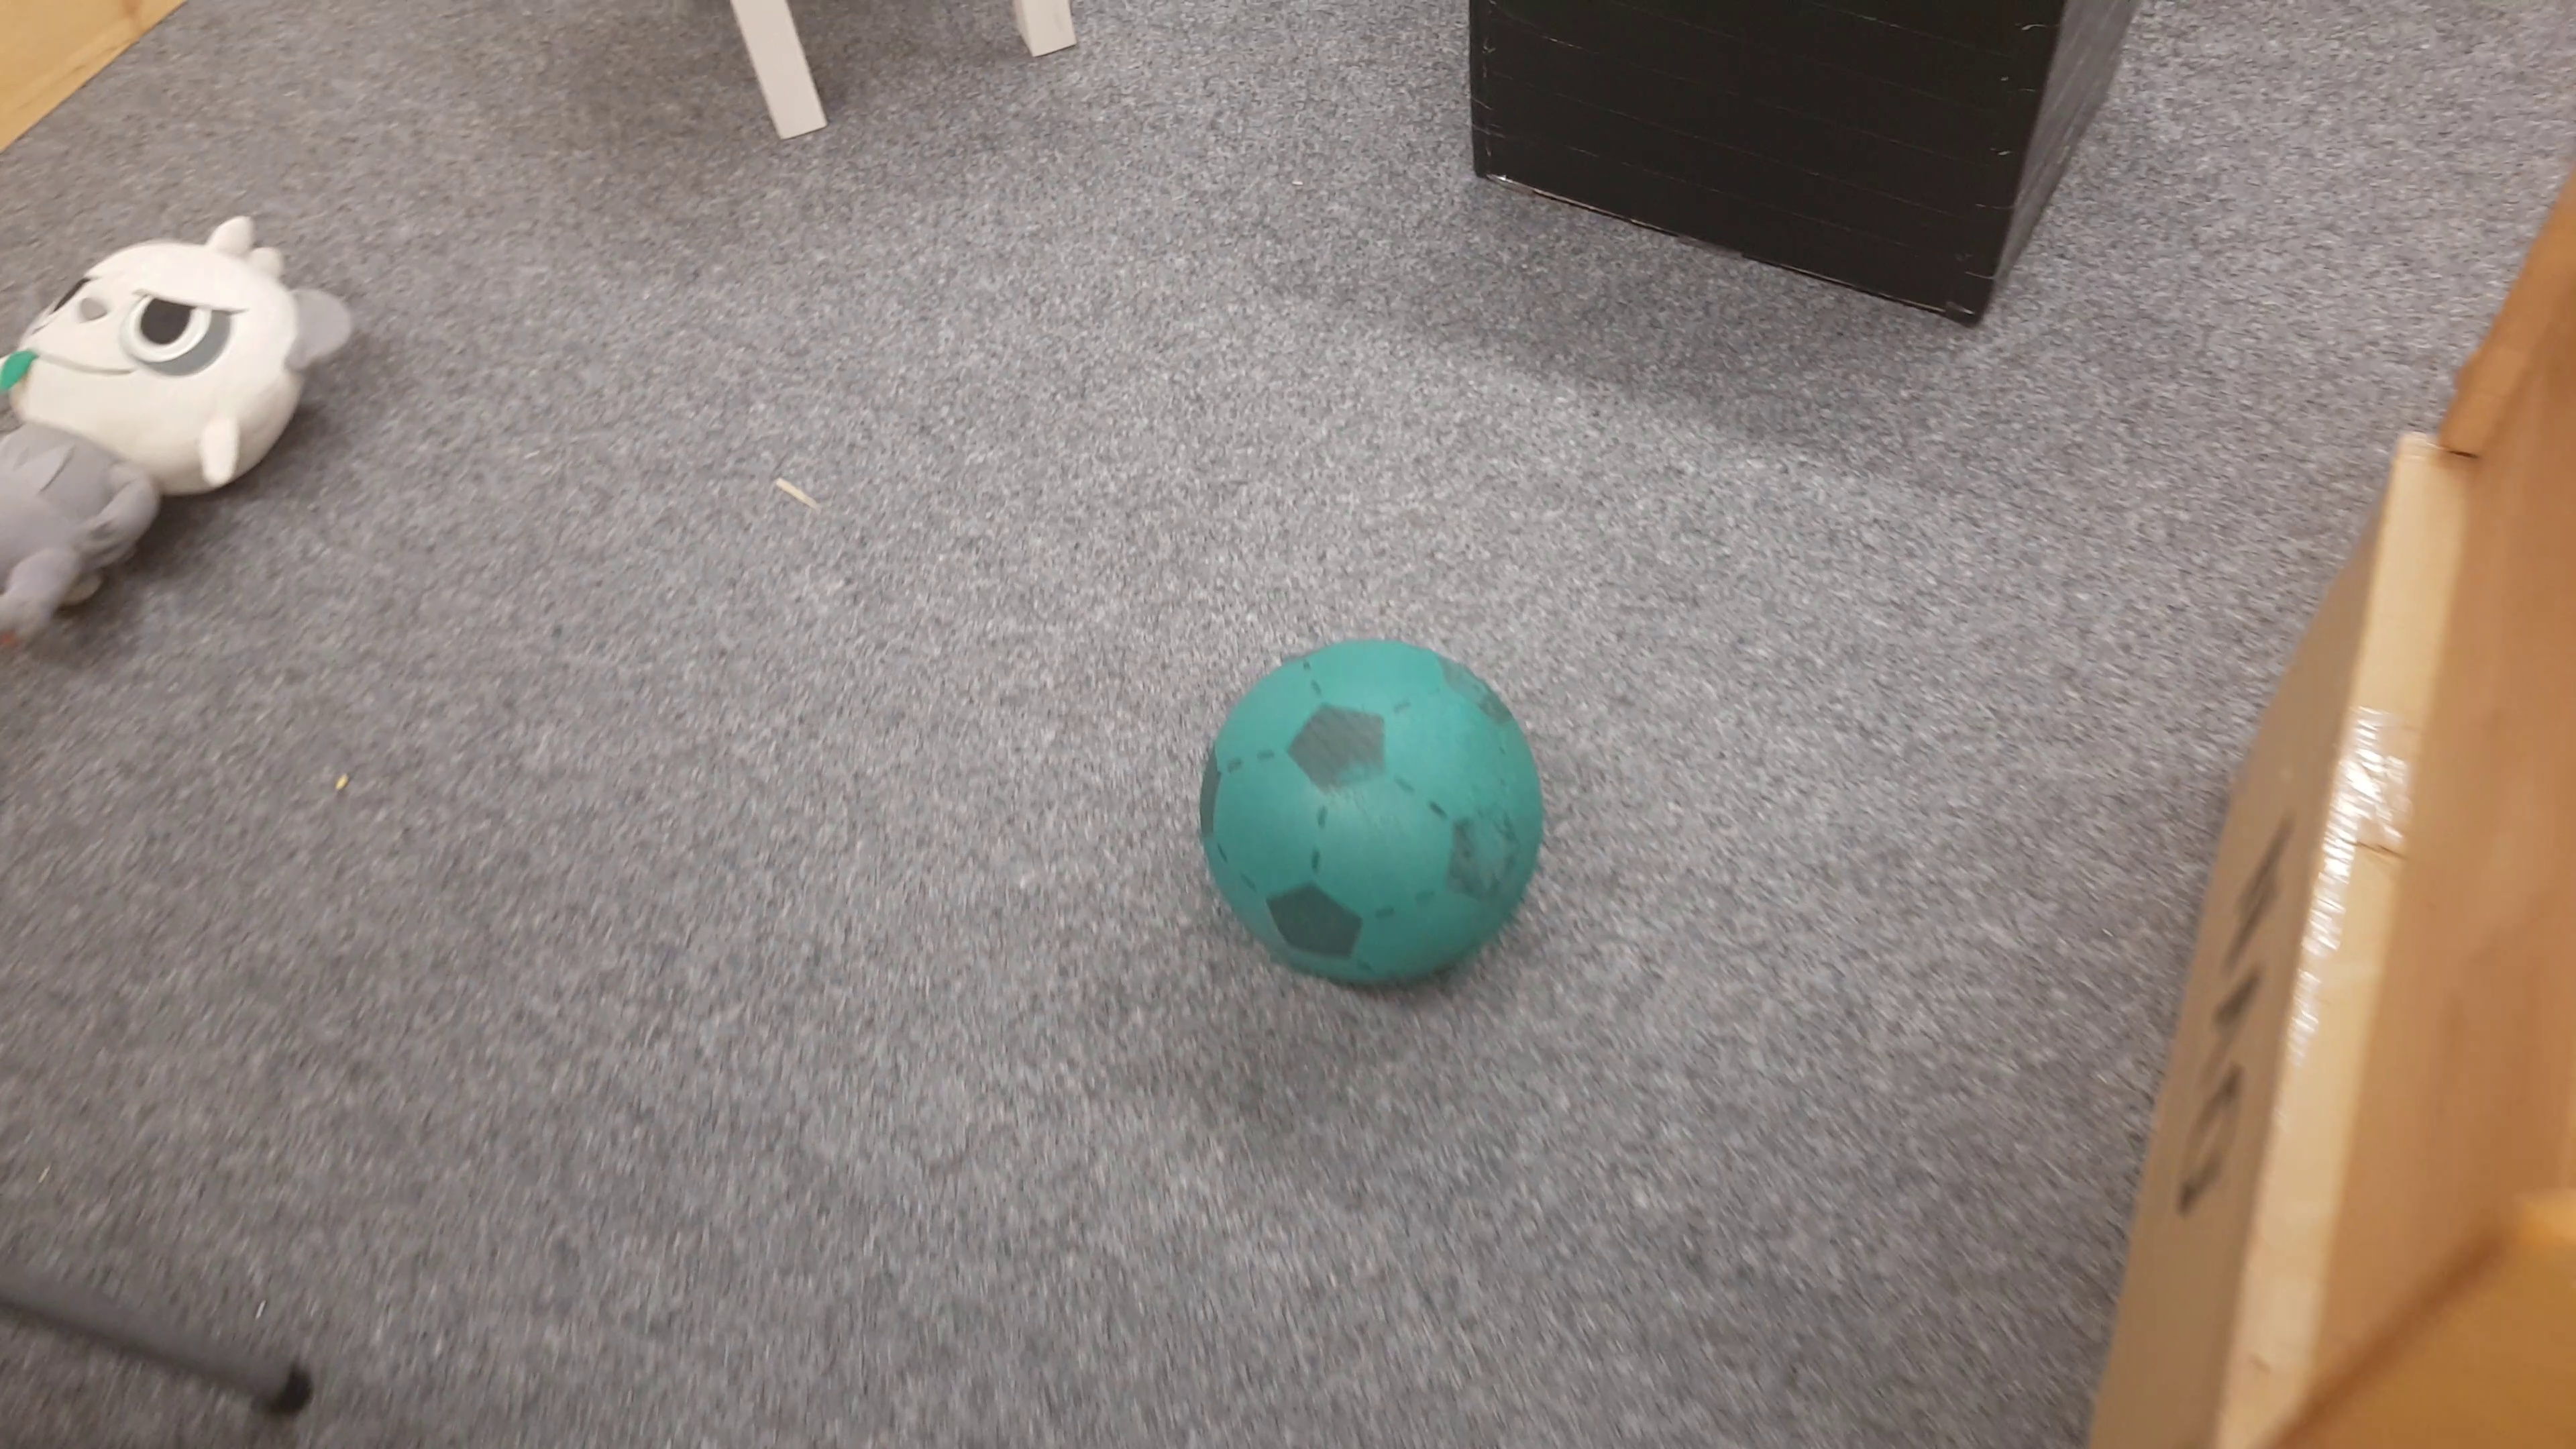grasp: (7, 218, 356, 671)
kick: (1210, 640, 1548, 998)
push: (1458, 0, 2143, 333)
